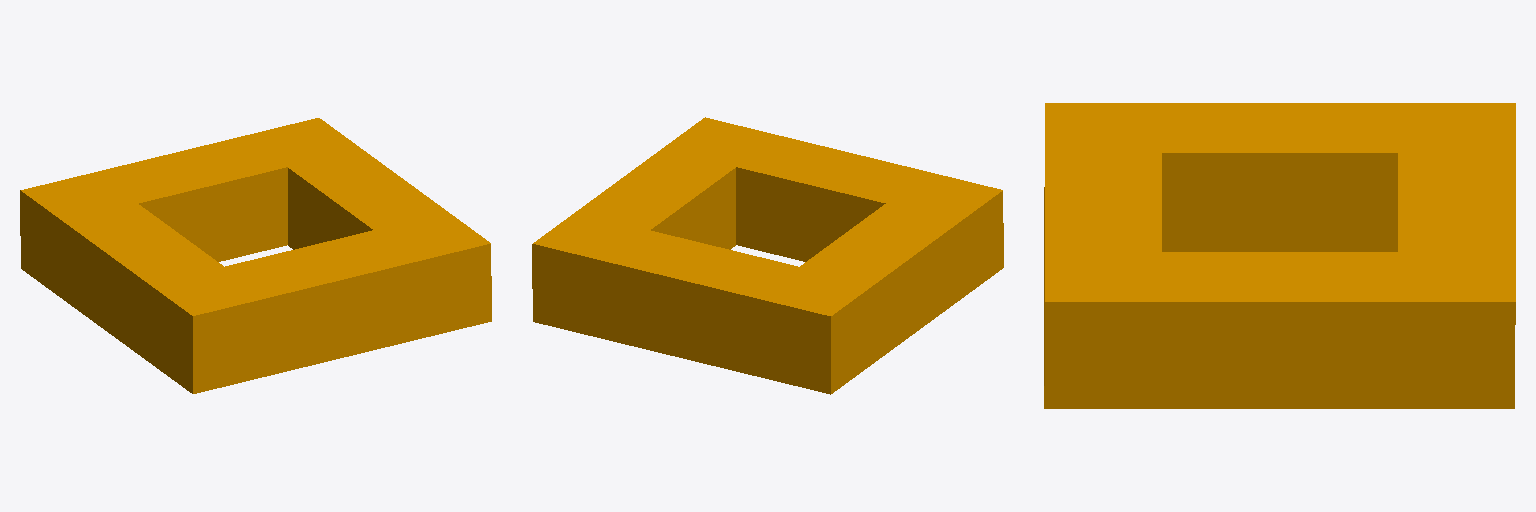
The robot description file, URDF, robot "2X2square_cube":
<?xml version='1.0' encoding='UTF-8'?>
<robot name="2X2square_cube">
  <link name="base_link">
    <visual name="base_link_visual">
      <geometry>
        <mesh filename="2X2square.dae" scale="1. 1. 1."/>
      </geometry>
      <origin xyz="0 0 0" rpy="1.57 0 0"/>
    </visual>
    <collision name="base_link_collision">
      <geometry>
        <mesh filename="2X2square.dae" scale="1. 1. 1."/>
      </geometry>
      <origin xyz="0 0 0" rpy="1.57 0 0"/>
    </collision>
  </link>
</robot>

--- Render facts (derived) ---
3 views of the same robot in one strip: view 1: azimuth 30°, elevation 25°; view 2: azimuth 150°, elevation 25°; view 3: azimuth 270°, elevation 25° (orthographic).
Model 2X2square_cube with 1 links and 0 joints (none), rooted at base_link, posed all joints at 0.
Links seen in each view (by area): view 1: base_link; view 2: base_link; view 3: base_link.
Boxes of the visible links, x1,y1,x2,y2 form: base_link: (20,118,491,393); base_link: (532,117,1003,394); base_link: (1044,103,1515,408).
Size in the robot's own frame: 1.2 by 1.2 by 0.301 metres.
Meshes: 1 distinct files referenced, 1 mesh visuals loaded (1 Collada DAE).